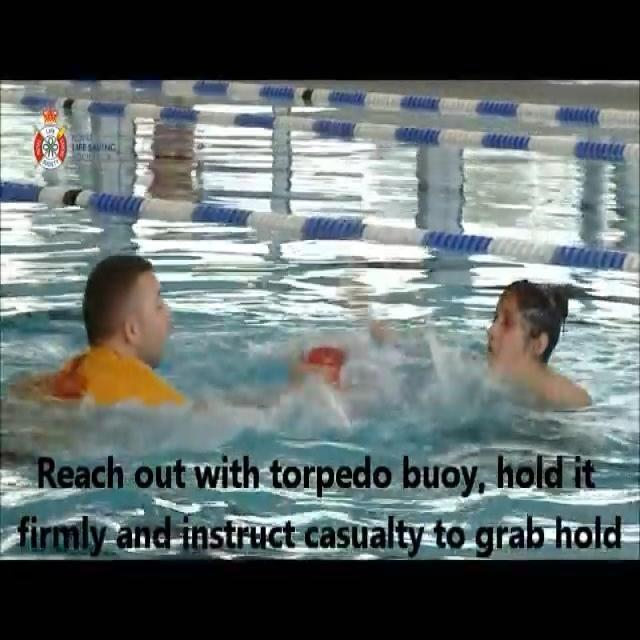Drowning: (472, 276, 594, 414)
Swimming: (41, 252, 217, 412)
